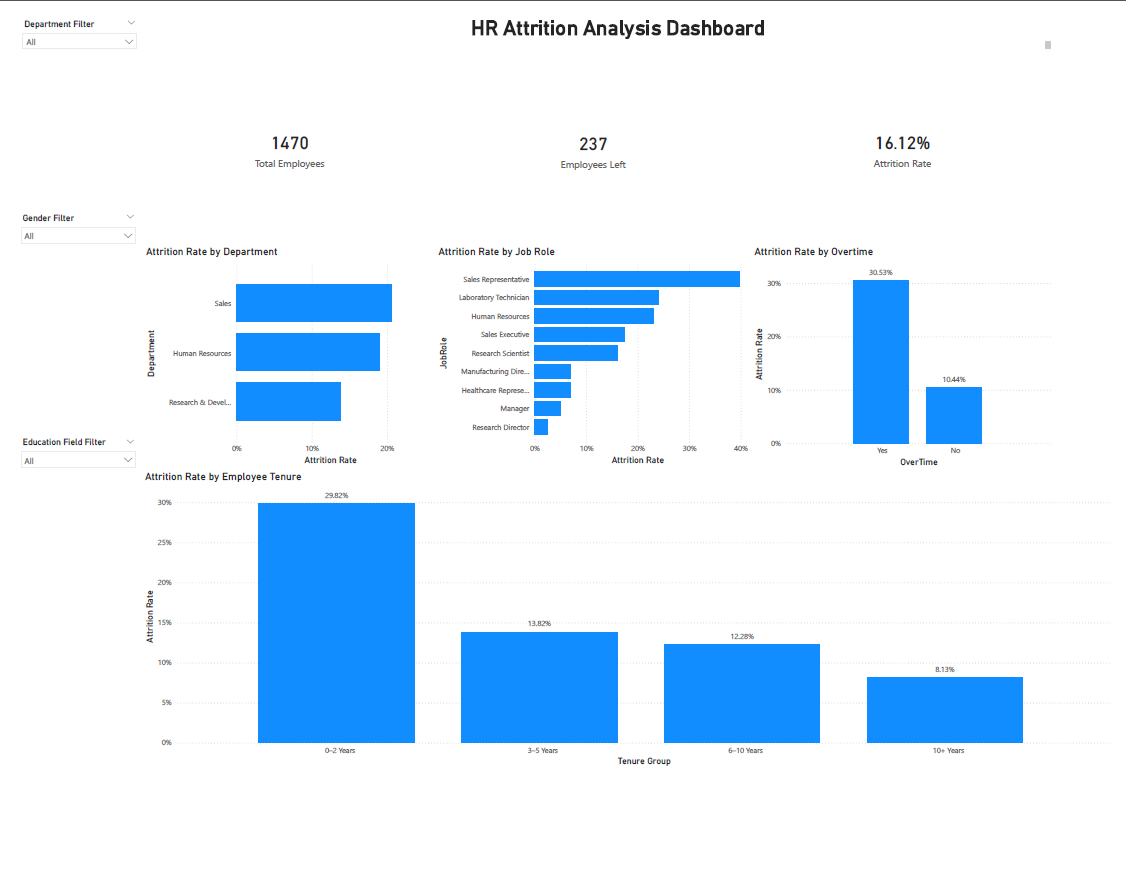

Layout of this report page (visuals, bound fields, positions):
{"tool":"powerbi","page":{"name":"Page 1","canvas":[1800,1400],"ordinal":0},"visuals":[{"type":"card","fields":{"Values":["IBM_HR_Attrition_Raw.Total Employees"]},"box":[210,57.5,480,317.5],"z":0},{"type":"card","fields":{"Values":["IBM_HR_Attrition_Raw.Employees Left"]},"box":[687.5,60,517.5,317.5],"z":1000},{"type":"card","fields":{"Values":["IBM_HR_Attrition_Raw.Attrition Rate"]},"box":[1205,57.5,495,317.5],"z":2000},{"type":"clusteredBarChart","fields":{"Category":["IBM_HR_Attrition_Raw.Department"],"Y":["IBM_HR_Attrition_Raw.Attrition Rate"]},"box":[210,375,477.5,365],"z":3000},{"type":"clusteredBarChart","title":"Attrition Rate by Job Role","fields":{"Category":["IBM_HR_Attrition_Raw.JobRole"],"Y":["IBM_HR_Attrition_Raw.Attrition Rate"]},"box":[687.5,375,517.5,365],"z":4000},{"type":"clusteredColumnChart","title":"Attrition Rate by Overtime","fields":{"Category":["IBM_HR_Attrition_Raw.OverTime"],"Y":["IBM_HR_Attrition_Raw.Attrition Rate"]},"box":[1205,375,495,367.5],"z":5000},{"type":"clusteredColumnChart","title":"Attrition Rate by Employee Tenure","fields":{"Y":["IBM_HR_Attrition_Raw.Attrition Rate"],"Category":["IBM_HR_Attrition_Raw.Tenure Group"]},"box":[207.5,742.5,1590,490],"z":6000},{"type":"slicer","fields":{"Values":["IBM_HR_Attrition_Raw.Department"]},"box":[2.5,0,207.5,320],"z":7000},{"type":"slicer","fields":{"Values":["IBM_HR_Attrition_Raw.Gender"]},"box":[0,317.5,207.5,367.5],"z":8000},{"type":"slicer","fields":{"Values":["IBM_HR_Attrition_Raw.EducationField"]},"box":[0,685,207.5,452.5],"z":9000},{"type":"textbox","box":[0,1148,208,252],"z":10000},{"type":"textbox","title":"HR Attrition Analysis Dashboard","box":[275,0,1425,57.5],"z":10001}]}

Visuals, with their boxes in screenshot pixels (x1, y1, x2, y2), scaled from the page's 1800x1400 canvas onto the 1126x886 screenshot:
card - IBM_HR_Attrition_Raw.Total Employees: (131, 36, 432, 237)
card - IBM_HR_Attrition_Raw.Employees Left: (430, 38, 754, 239)
card - IBM_HR_Attrition_Raw.Attrition Rate: (754, 36, 1063, 237)
clusteredBarChart - IBM_HR_Attrition_Raw.Department x IBM_HR_Attrition_Raw.Attrition Rate: (131, 237, 430, 468)
"Attrition Rate by Job Role" clusteredBarChart: (430, 237, 754, 468)
"Attrition Rate by Overtime" clusteredColumnChart: (754, 237, 1063, 470)
"Attrition Rate by Employee Tenure" clusteredColumnChart: (130, 470, 1124, 780)
slicer - IBM_HR_Attrition_Raw.Department: (2, 0, 131, 203)
slicer - IBM_HR_Attrition_Raw.Gender: (0, 201, 130, 434)
slicer - IBM_HR_Attrition_Raw.EducationField: (0, 434, 130, 720)
textbox: (0, 727, 130, 885)
"HR Attrition Analysis Dashboard" textbox: (172, 0, 1063, 36)
